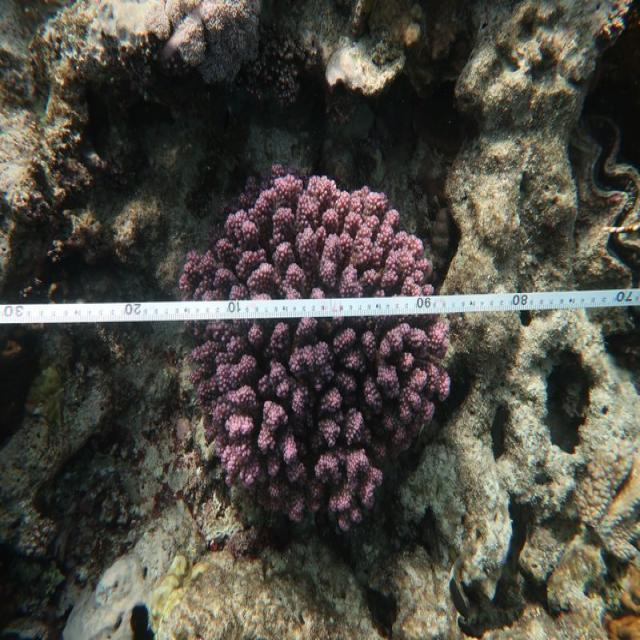Healthy Coral: (176, 165, 455, 537)
